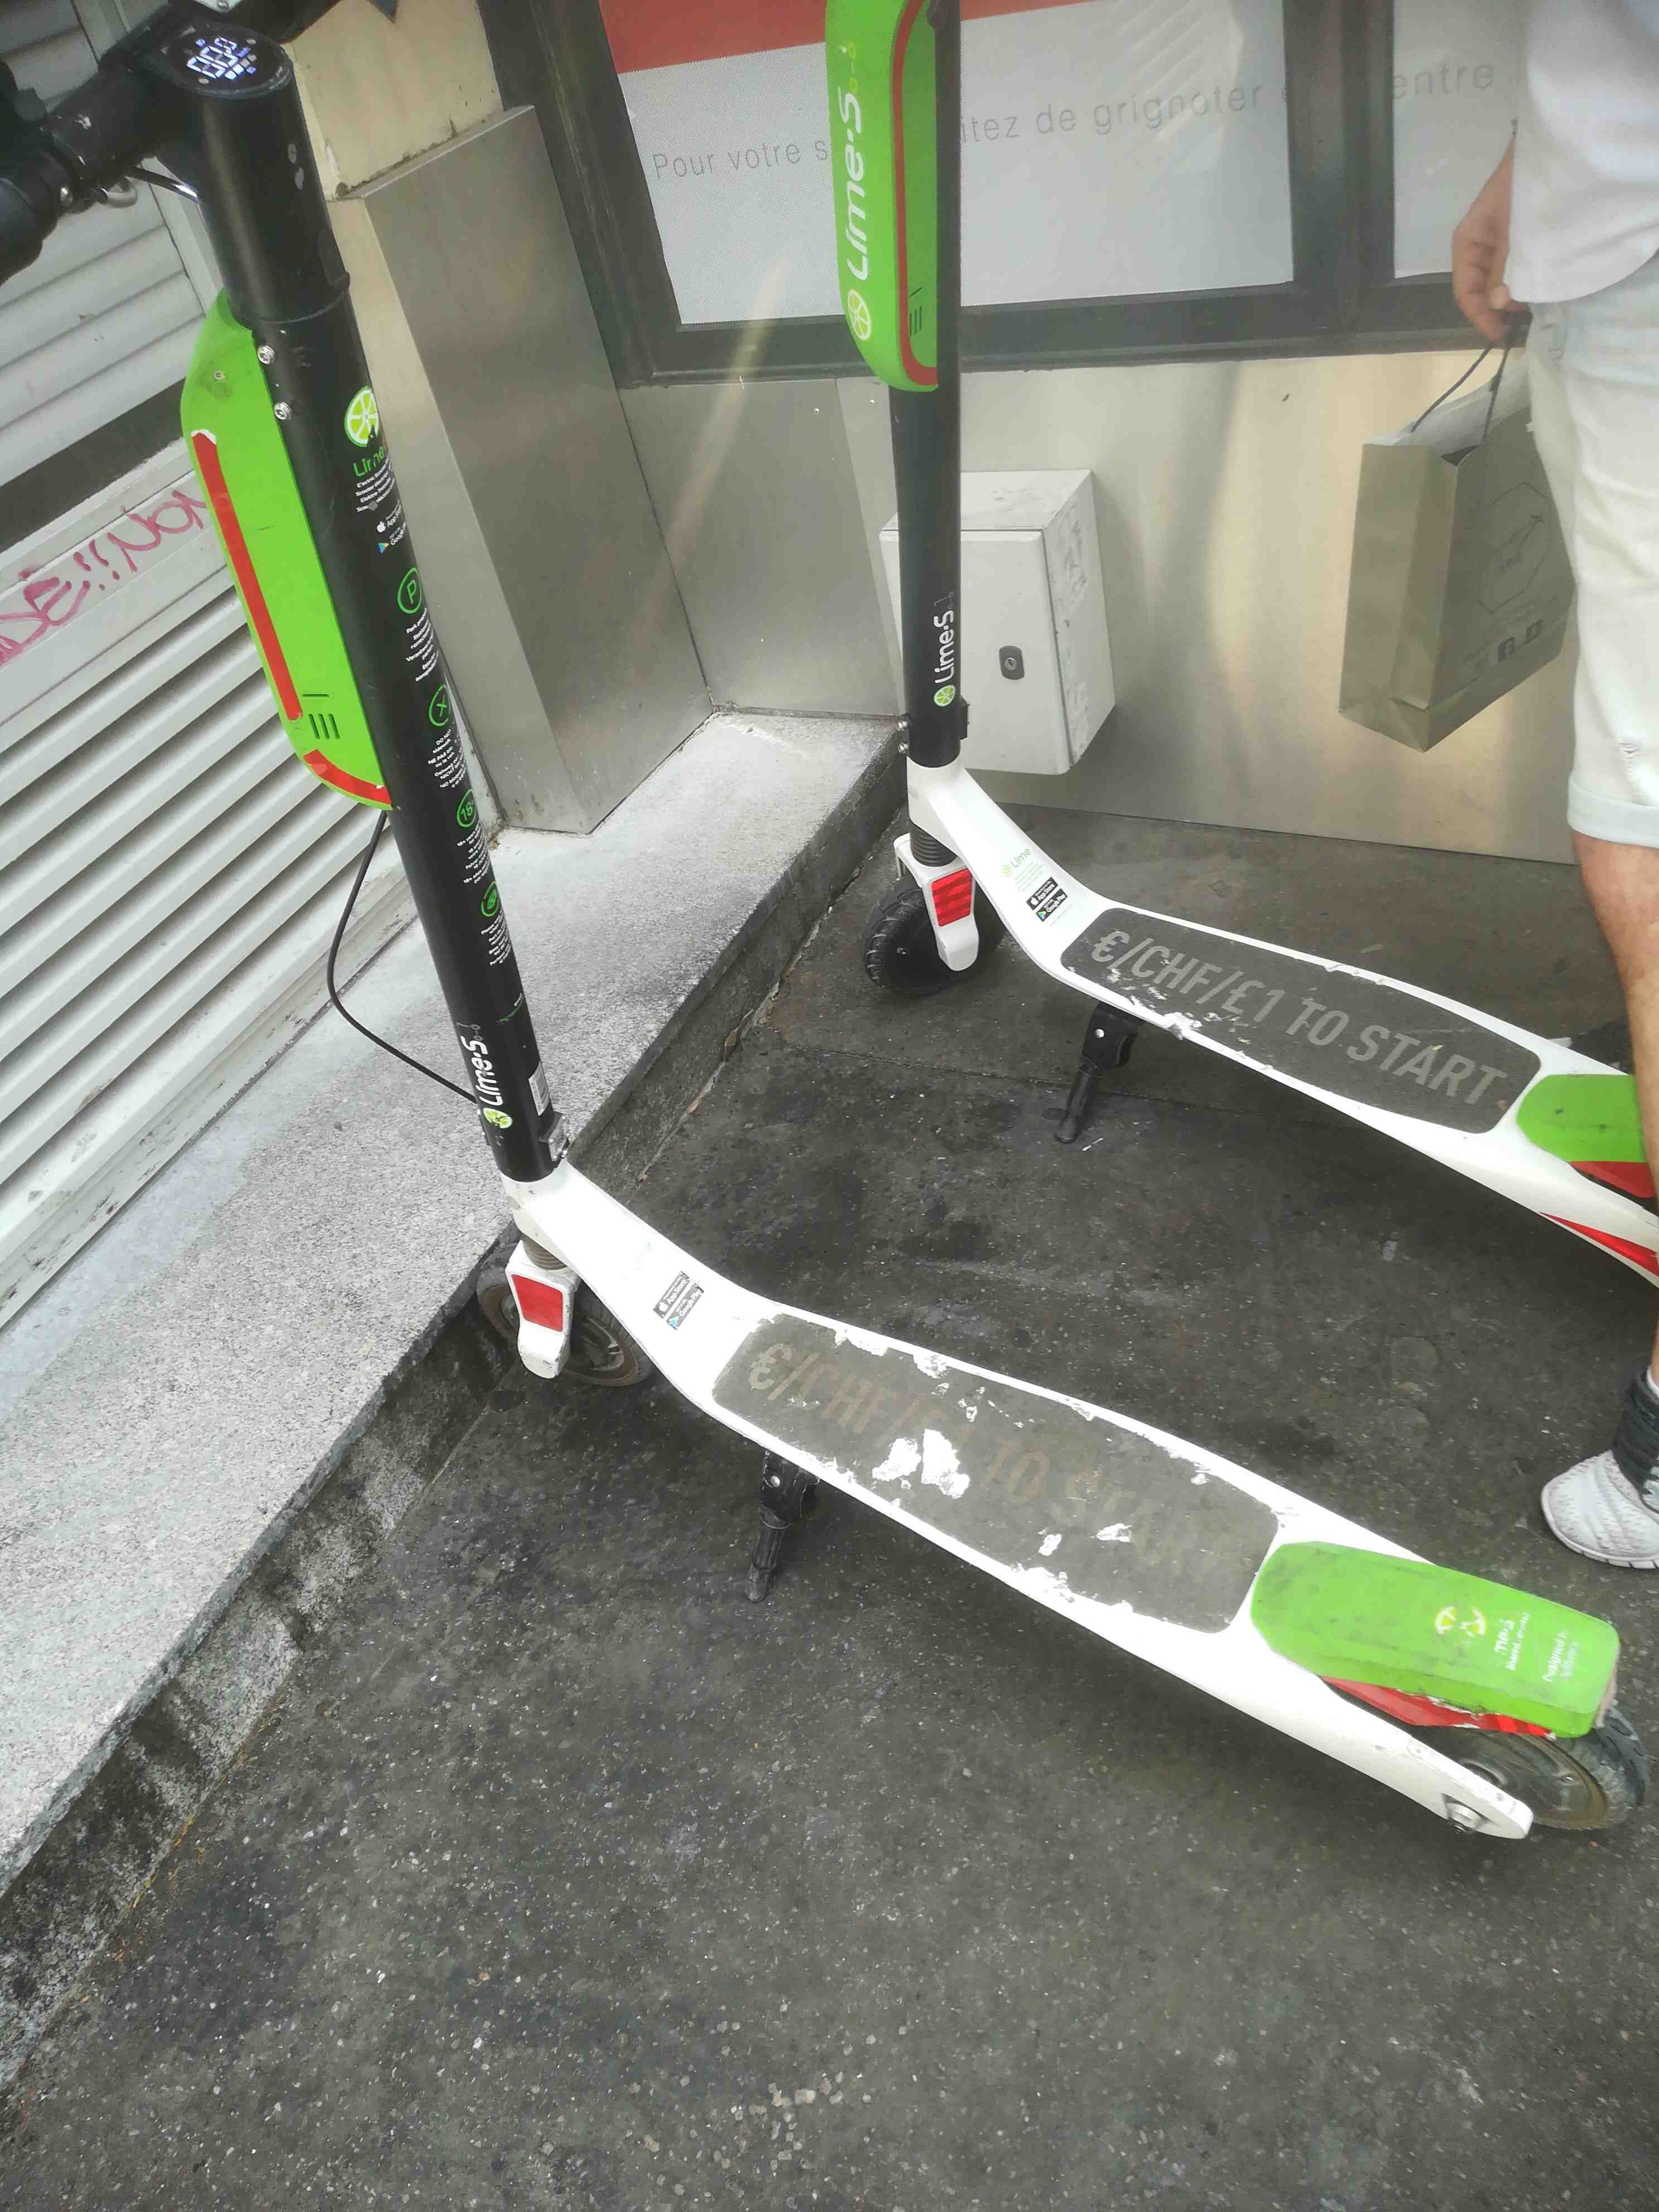scooter: (0, 5, 1649, 1879)
